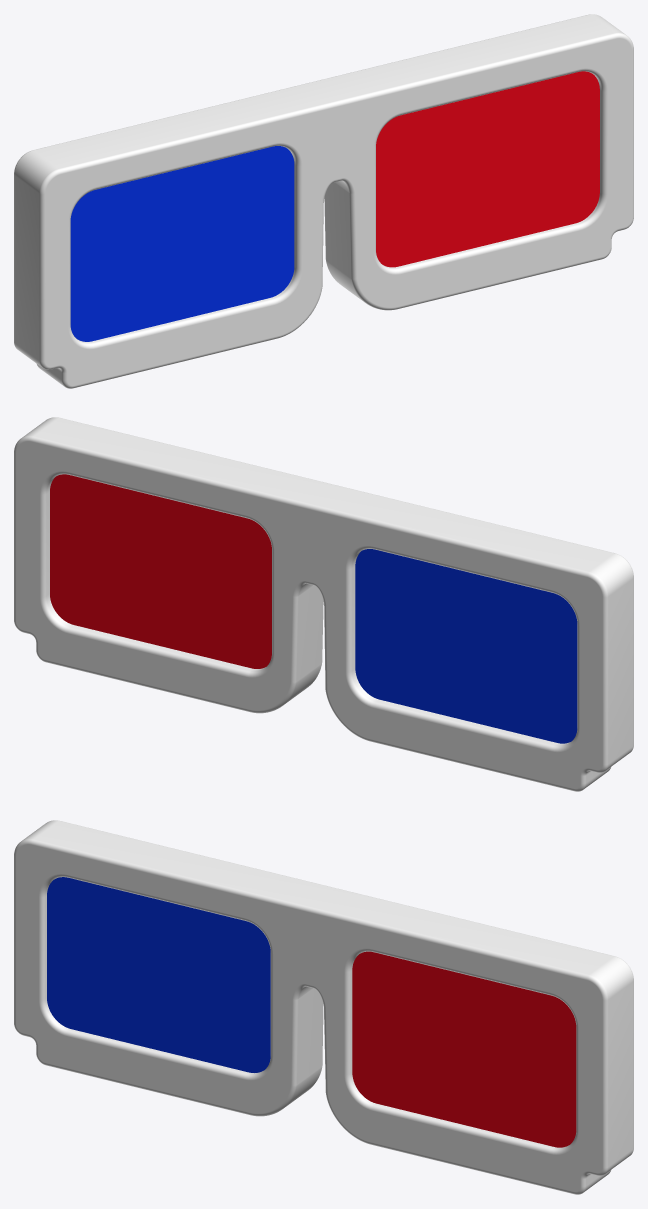
The model's file is 3d_glasses.glb.
3 renders of one model, top to bottom at view 1: azimuth 30°, elevation 25°; view 2: azimuth 150°, elevation 25°; view 3: azimuth 330°, elevation 25°, orthographic.
Parts seen in each view (by area): view 1: Cube.034, Cube.044, Cube.053; view 2: Cube.034, Cube.044, Cube.053; view 3: Cube.034, Cube.053, Cube.044.
Boxes of the visible parts, <box> form: Cube.034: <box>14,14,633,388</box>; Cube.044: <box>70,146,294,341</box>; Cube.053: <box>376,71,599,267</box>; Cube.034: <box>14,417,633,791</box>; Cube.044: <box>355,549,577,743</box>; Cube.053: <box>50,474,271,668</box>; Cube.034: <box>14,820,633,1194</box>; Cube.053: <box>352,951,576,1147</box>; Cube.044: <box>47,877,270,1072</box>.
Bounding box in the file's own units: 22.9 × 8.2 × 1.95.
